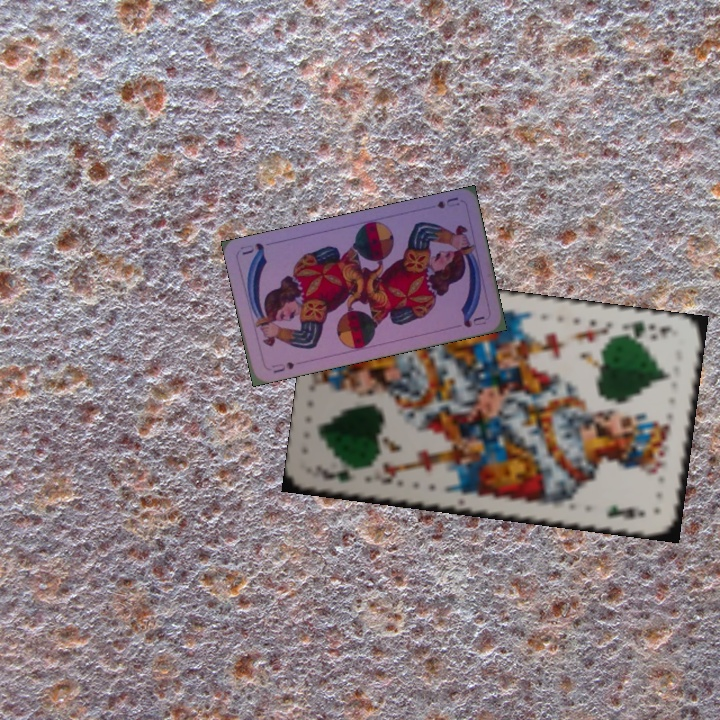GK: (619, 317, 678, 342), (326, 464, 366, 485)
SU: (433, 193, 462, 211), (268, 358, 296, 376)
